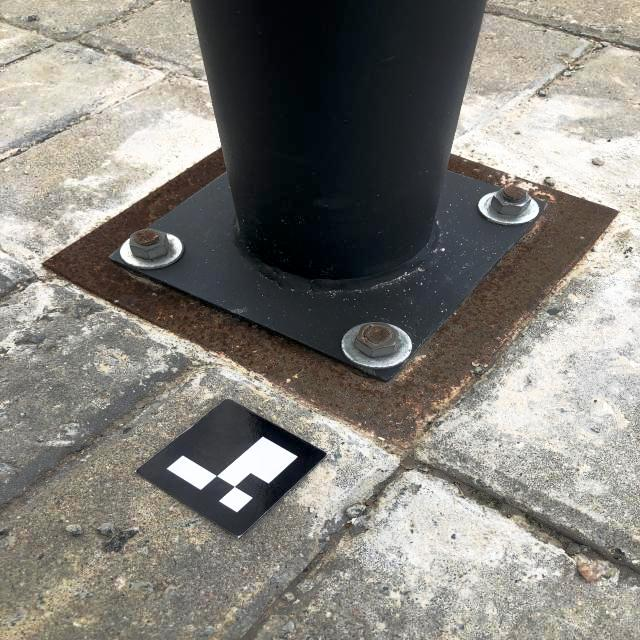Corrosion: (42, 147, 620, 450), (358, 323, 394, 347), (501, 185, 526, 200), (134, 230, 159, 243)
